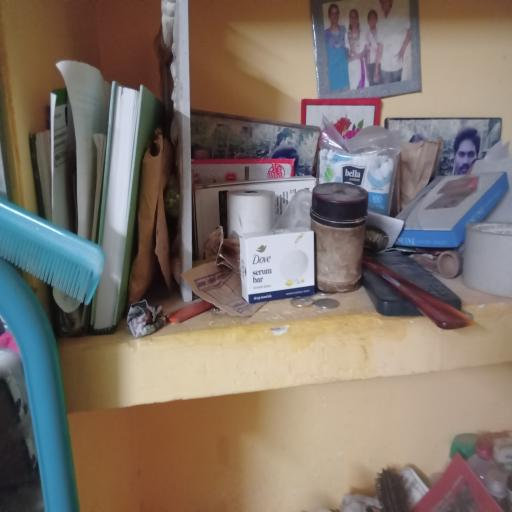Dove`1: (238, 227, 321, 304)
